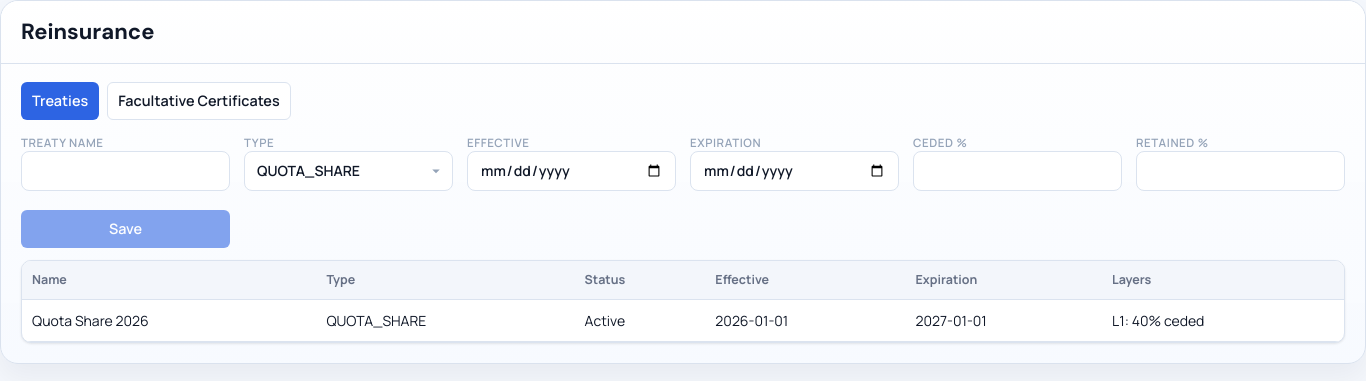
ReinsurancePage › switches to the facultative certificates tab
Step 1. Click the button "Facultative Certificates" → (199, 101), box [107,82,291,120]
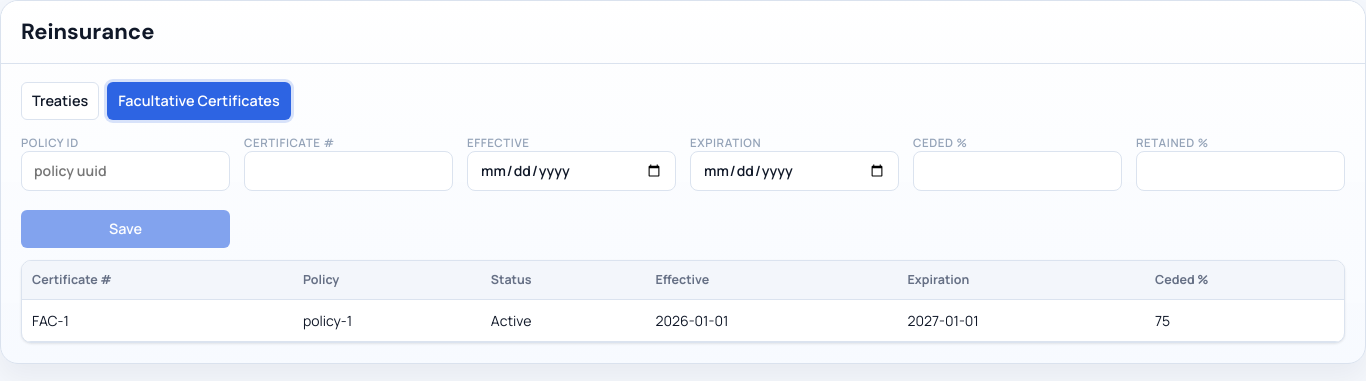
Result: the text "FAC-1" is shown at [22,300,293,342]
Result: the text "policy-1" is shown at [293,300,481,342]
